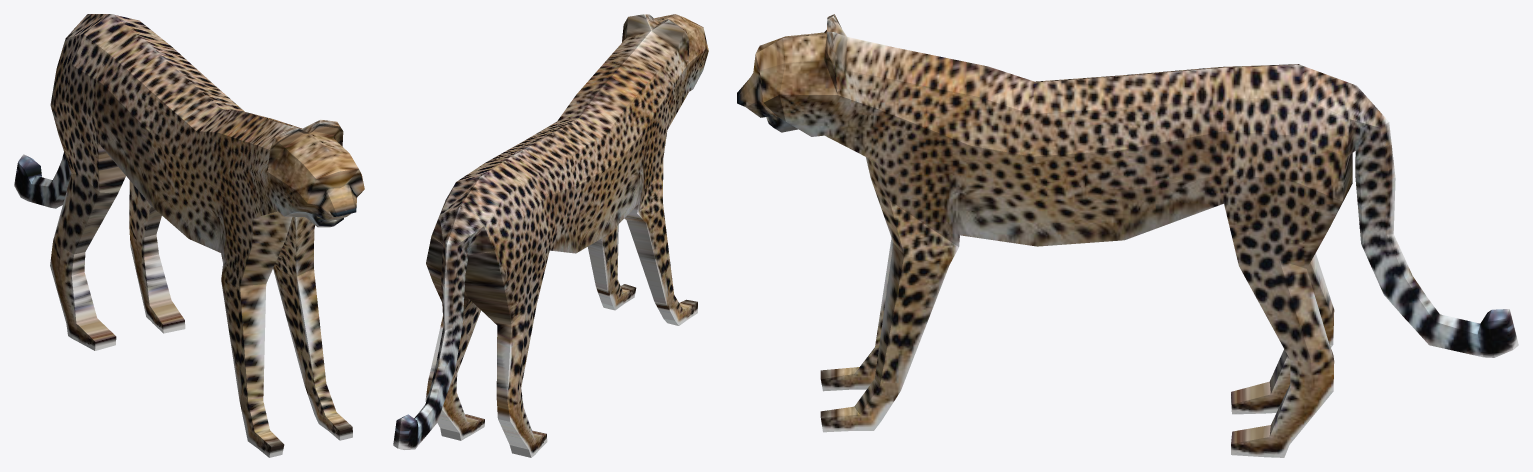
Rendered from cheetuh.fbx.
3 views of the same model, side by side, from view 1: azimuth 30°, elevation 25°; view 2: azimuth 150°, elevation 25°; view 3: azimuth 270°, elevation 25° (orthographic). The views are drawn at different scales.
Parts seen in each view (by area): view 1: Cheetuh; view 2: Cheetuh; view 3: Cheetuh.
Part boxes in pixels (<box>): Cheetuh: <box>14,14,364,457</box>; Cheetuh: <box>393,14,708,457</box>; Cheetuh: <box>737,14,1518,457</box>.
Size of the model in its own units: 20.14 by 65.6 by 115.
